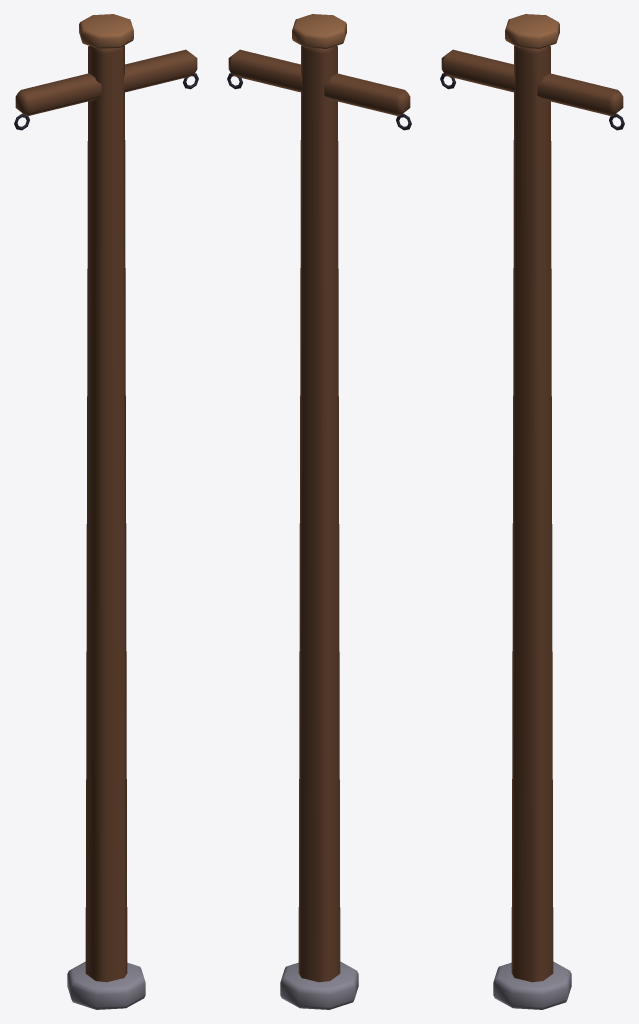
Rendered from lantern_post.glb.
The picture shows the model from 3 angles, left to right: view 1: azimuth 30°, elevation 25°; view 2: azimuth 150°, elevation 25°; view 3: azimuth 330°, elevation 25°; orthographic projection.
Parts seen in each view (by area): view 1: lantern_post; view 2: lantern_post; view 3: lantern_post.
Part boxes in pixels (<box>): lantern_post: <box>14,14,198,1009</box>; lantern_post: <box>227,14,411,1009</box>; lantern_post: <box>440,14,624,1009</box>.
Bounding box in the file's own units: 0.526 × 2.64 × 0.2.
